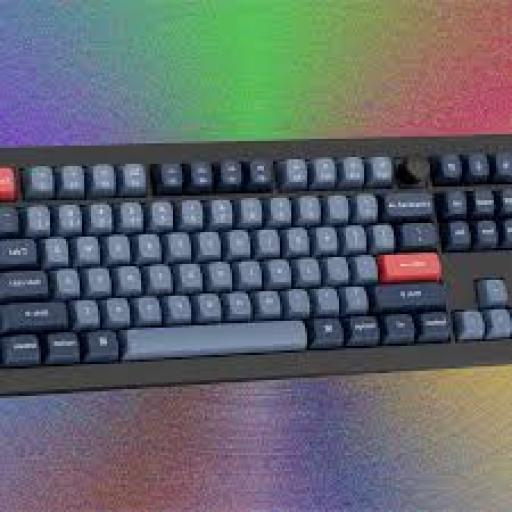KEYBOARD-2: (0, 134, 510, 394)
